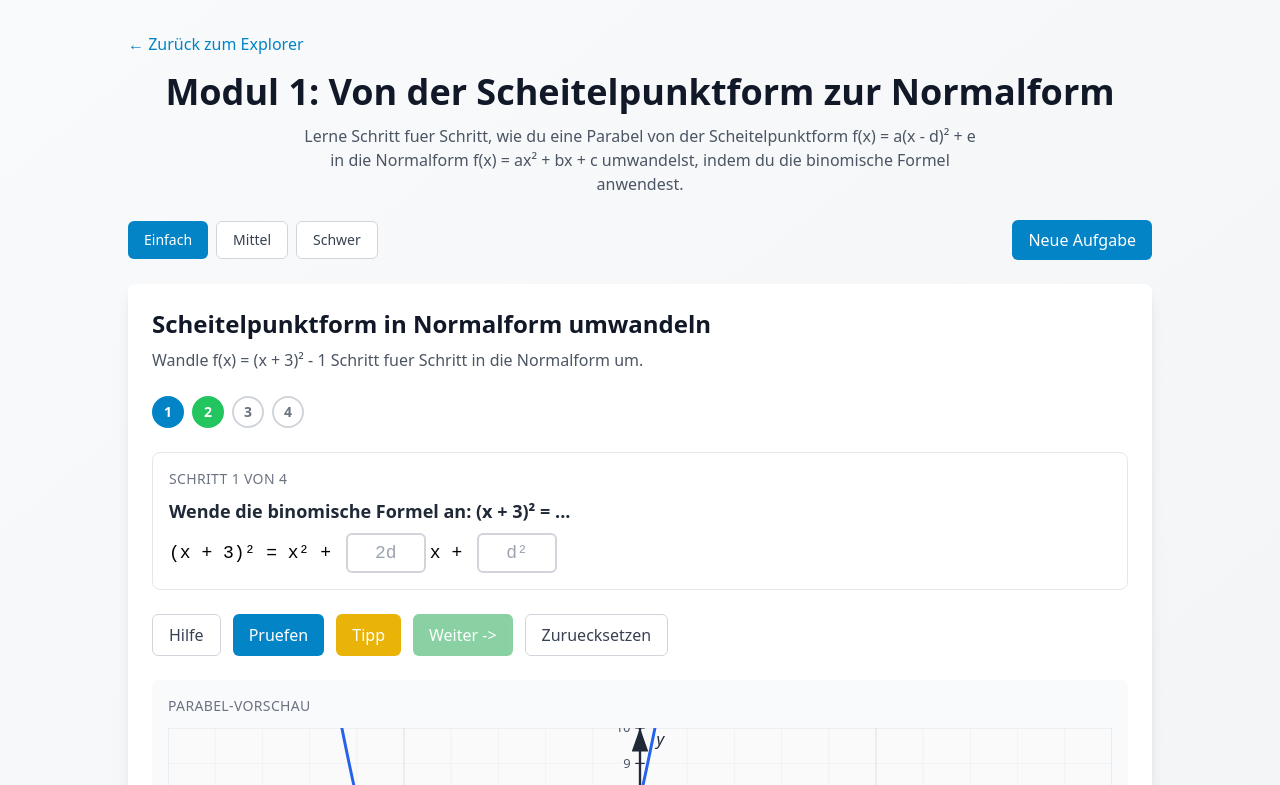
Test: Module1Page › shows error feedback for incorrect answer
Step 1. Type "999" into the field with placeholder "2d" → coordinates (386, 553), box [346,533,426,573]
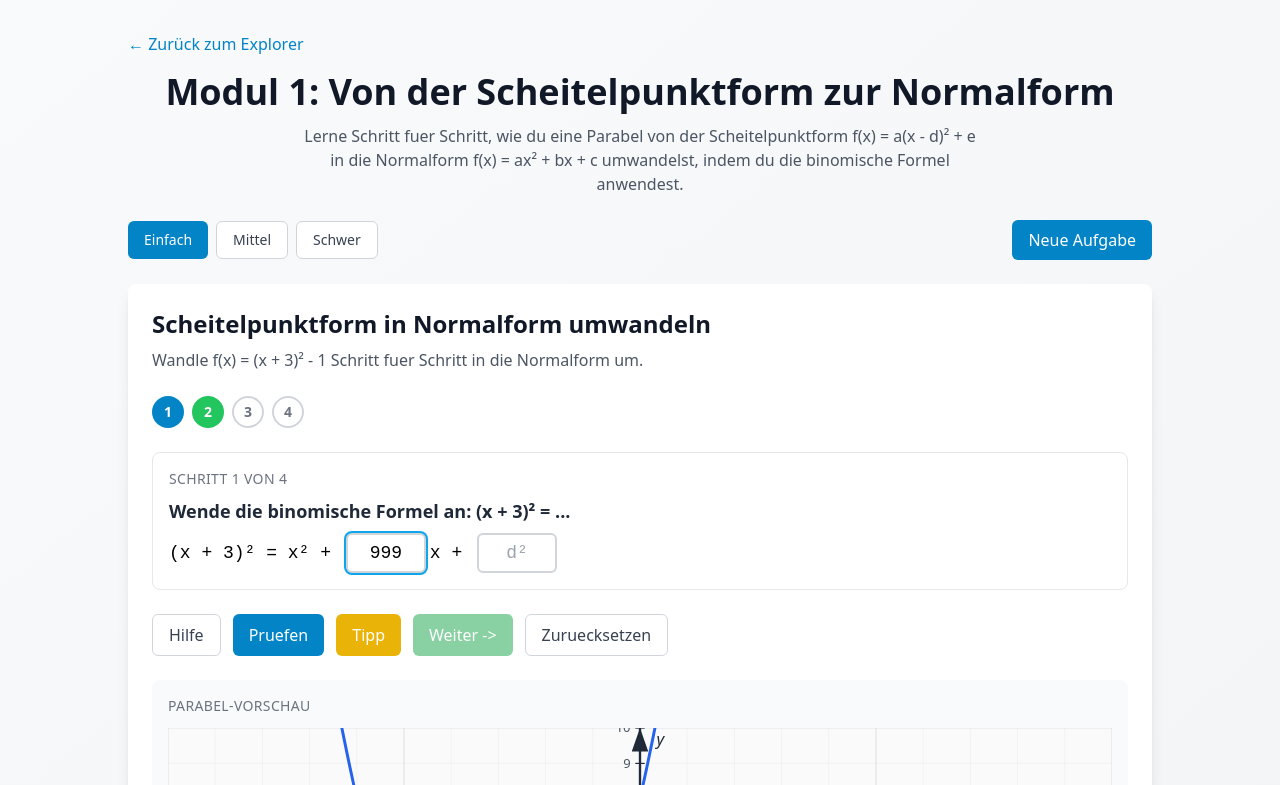
Step 2. Click the button with test id "exercise-check" → coordinates (278, 635), box [233,614,324,656]
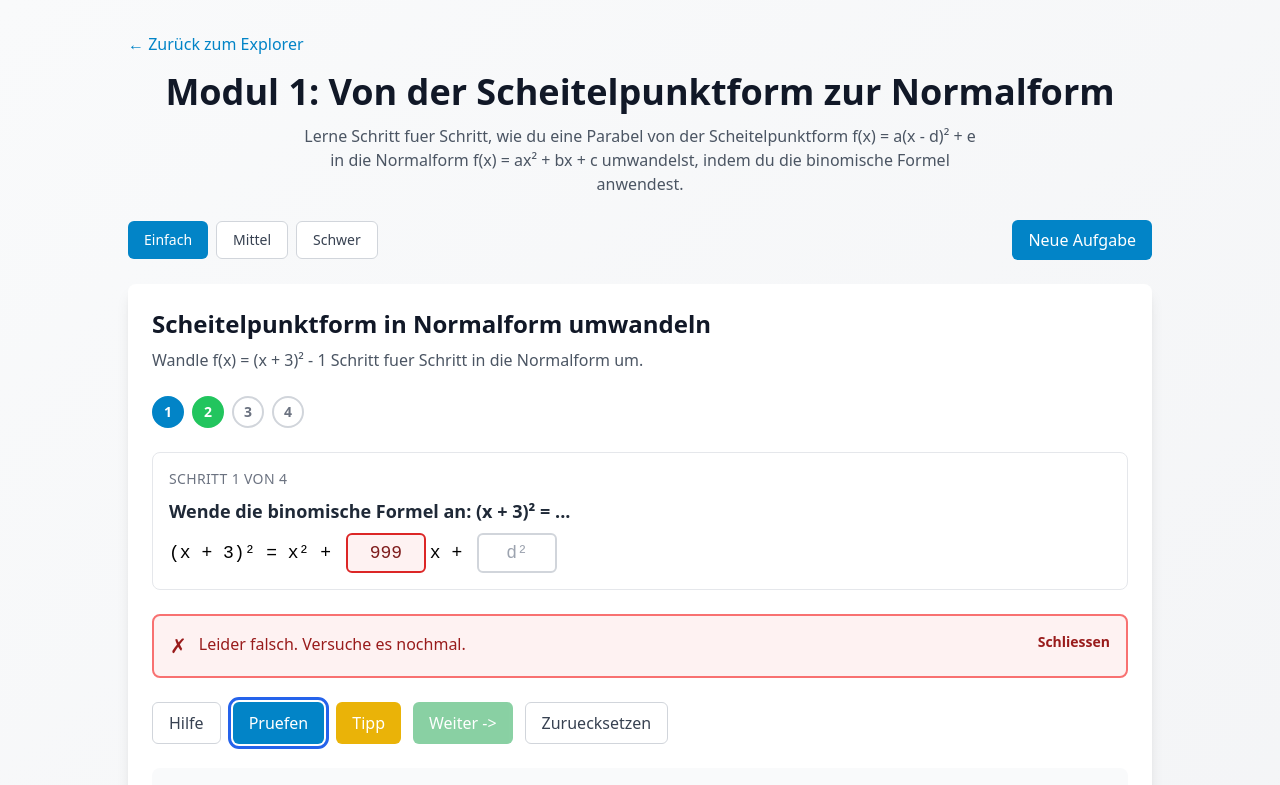
Expected: the message "✗ Leider falsch. Versuche es nochmal. Schliessen" is shown, [152,614,1128,678]
